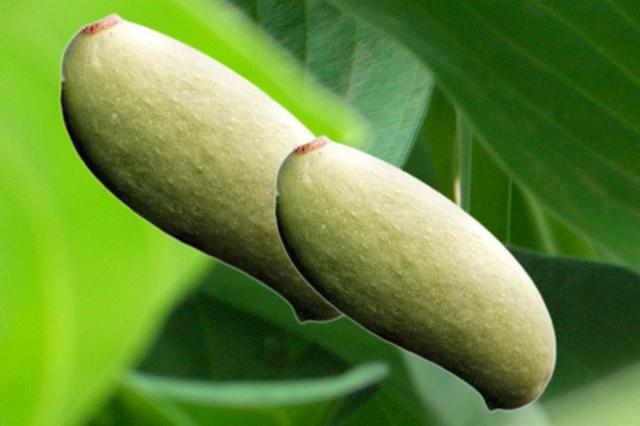green_mango: (58, 11, 345, 324), (273, 133, 556, 412)
